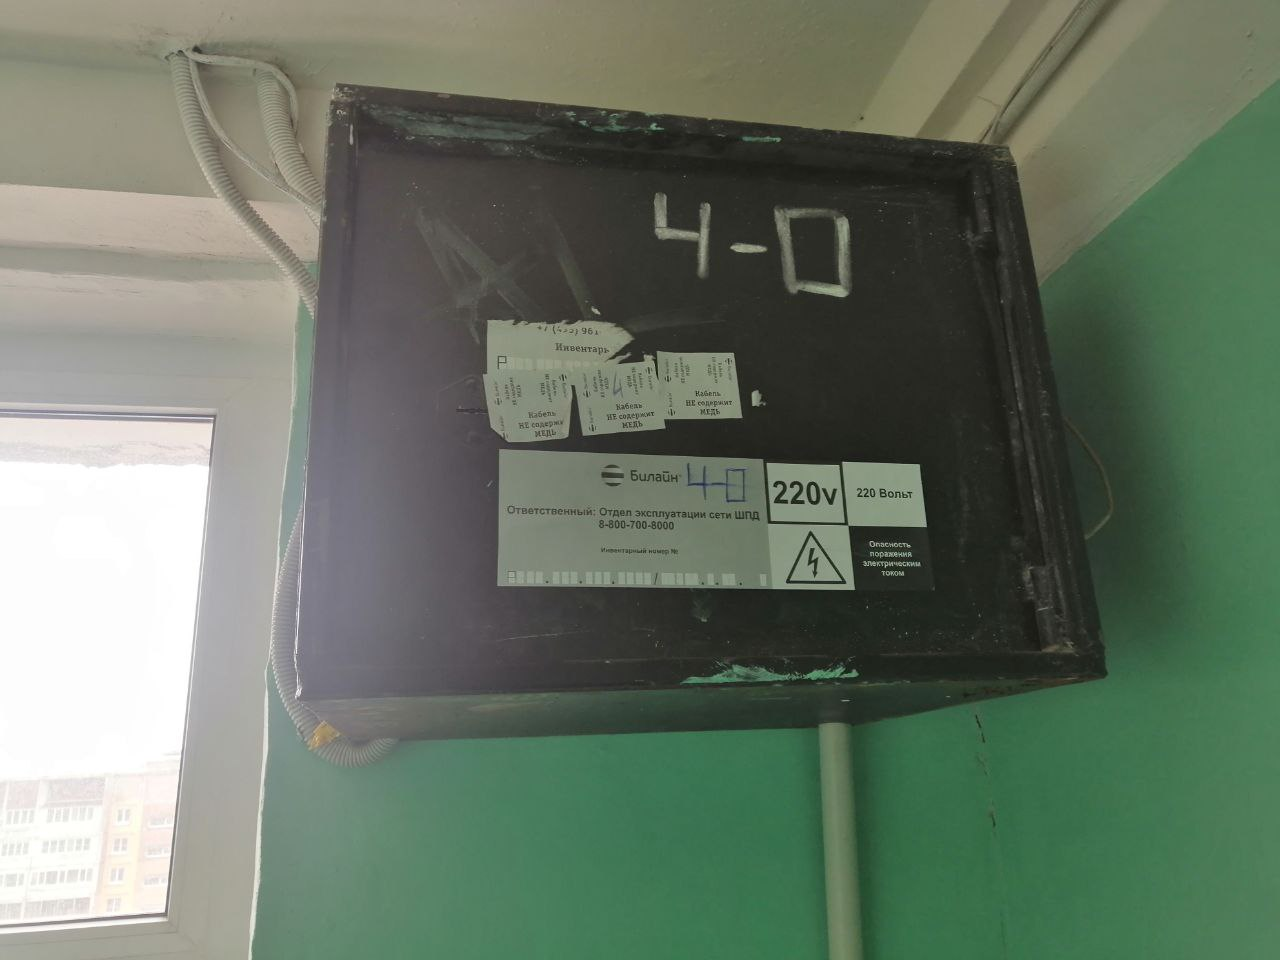shta-9m: (271, 67, 1123, 756)
